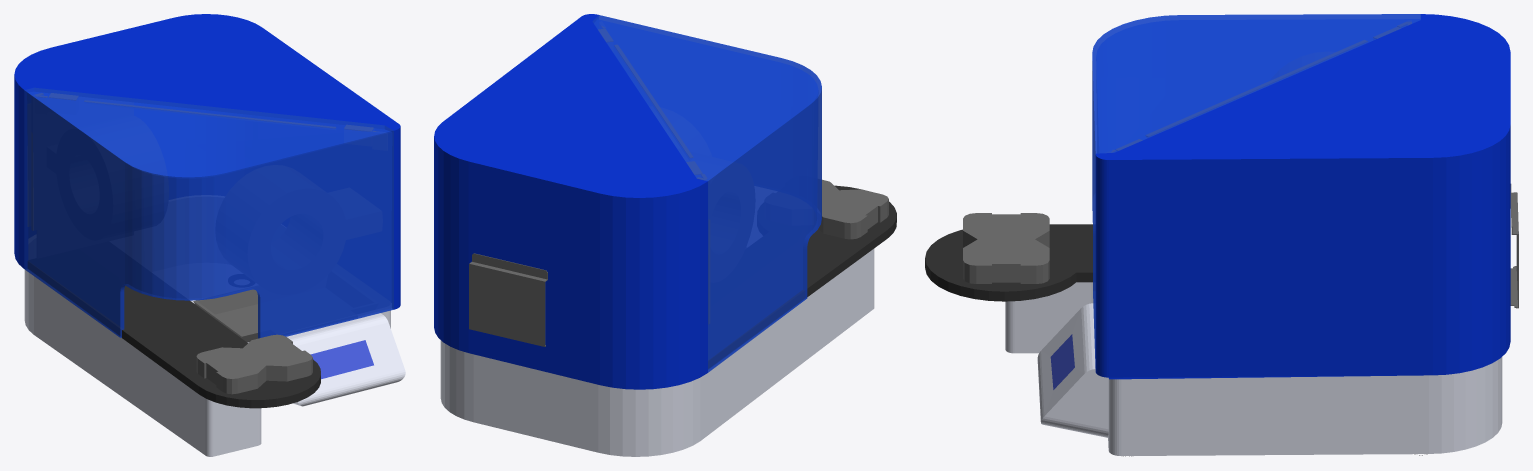
3 views of the same model, side by side, from view 1: azimuth 30°, elevation 25°; view 2: azimuth 150°, elevation 25°; view 3: azimuth 270°, elevation 25° (orthographic). The views are drawn at different scales.
Parts seen in each view (by area): view 1: 041; view 2: 041; view 3: 041.
Part boxes in pixels (box(x1,y1,x2,y2)): 041: box(14, 14, 405, 456); 041: box(434, 14, 896, 456); 041: box(925, 14, 1518, 456).
Size of the model in its own units: 93.7 by 92.29 by 161.
